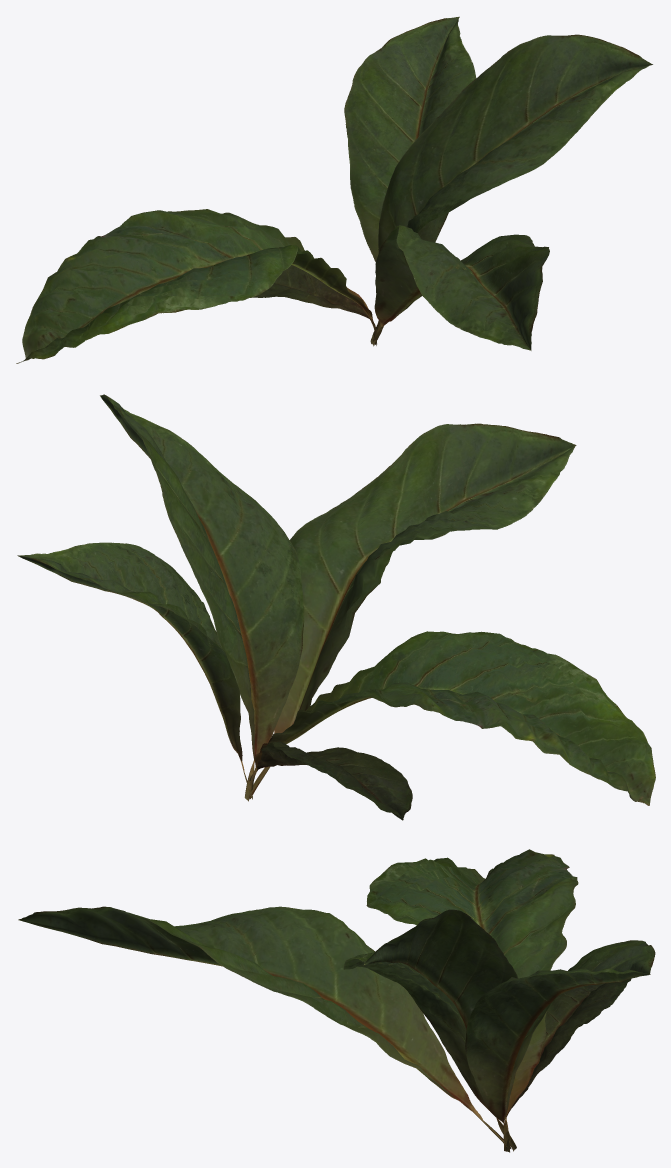
File: anthurium_botany_01_02.glb
3 renders of one model, top to bottom at view 1: azimuth 30°, elevation 25°; view 2: azimuth 150°, elevation 25°; view 3: azimuth 270°, elevation 25°, orthographic. The views are drawn at different scales.
Parts seen in each view (by area): view 1: anthurium_botany_01; view 2: anthurium_botany_01; view 3: anthurium_botany_01.
Part boxes in pixels (box(x1,y1,x2,y2)): anthurium_botany_01: box(16, 16, 652, 363); anthurium_botany_01: box(17, 394, 655, 820); anthurium_botany_01: box(18, 849, 655, 1152).
Size of the model in its own units: 0.3199 by 0.1586 by 0.2901.
1 material, 1 textured.
